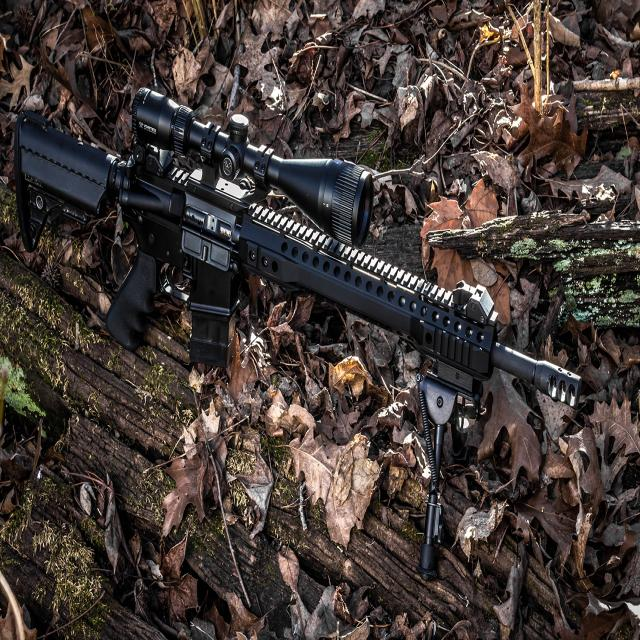Rifle: (12, 89, 582, 404)
